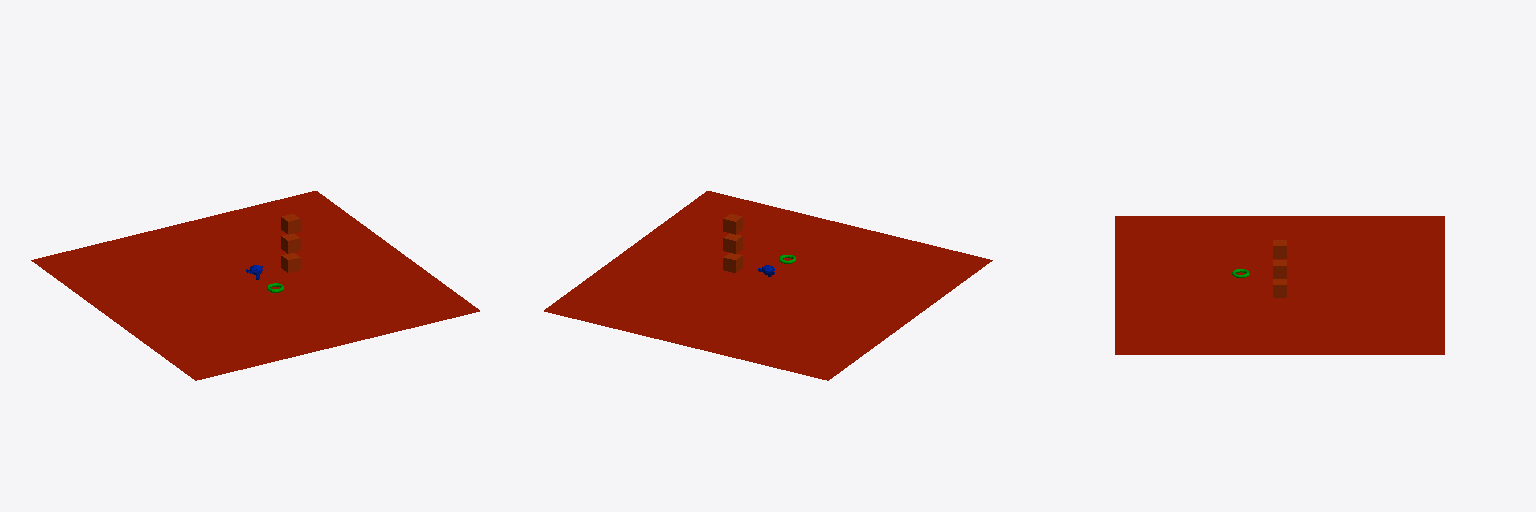
3 views of the same model, side by side, from view 1: azimuth 30°, elevation 25°; view 2: azimuth 150°, elevation 25°; view 3: azimuth 270°, elevation 25° (orthographic).
Parts seen in each view (by area): view 1: Plane; view 2: Plane; view 3: Plane.
Part boxes in pixels (x1,y1,x2,y2): Plane: (31,191,479,380); Plane: (544,191,992,380); Plane: (1115,216,1444,354).
Bounding box in the file's own units: 46.4 × 9.23 × 46.4.